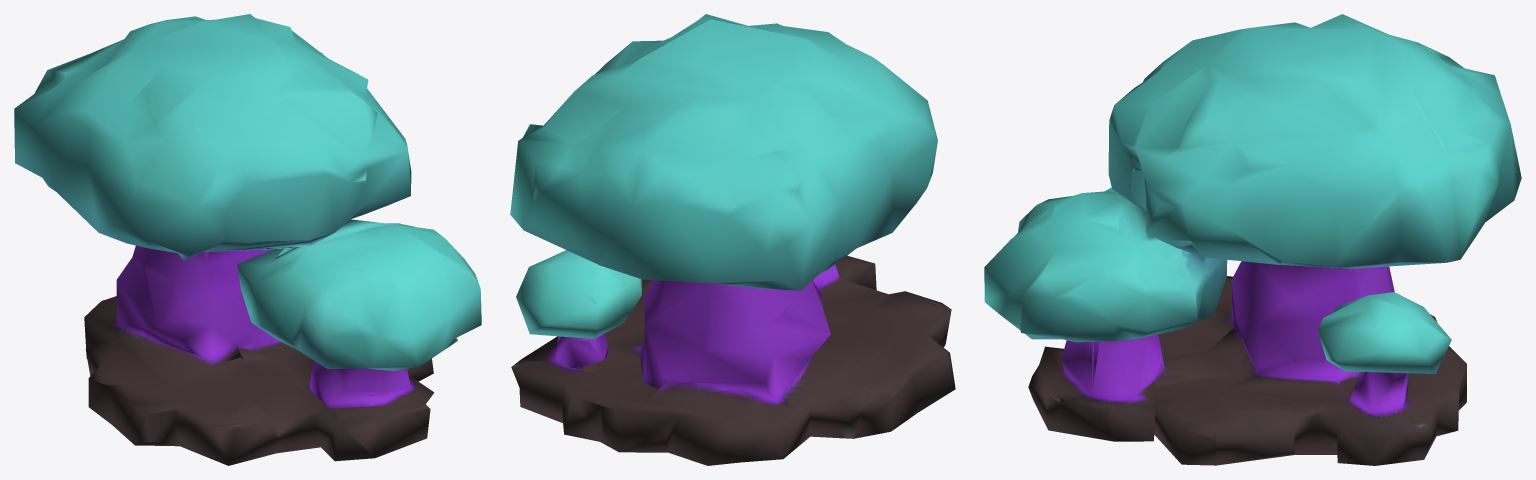
The model's file is textures.glb.
The picture shows the model from 3 angles, left to right: view 1: azimuth 30°, elevation 25°; view 2: azimuth 150°, elevation 25°; view 3: azimuth 270°, elevation 25°; orthographic projection. The views are drawn at different scales.
Visible parts, largest first — view 1: tripo_node_021a12ec-1f0f-48c8-a97e-f9e576dcaf90; view 2: tripo_node_021a12ec-1f0f-48c8-a97e-f9e576dcaf90; view 3: tripo_node_021a12ec-1f0f-48c8-a97e-f9e576dcaf90.
Part boxes in pixels (left/top/right/bottom): tripo_node_021a12ec-1f0f-48c8-a97e-f9e576dcaf90: left=14, top=14, right=481, bottom=465; tripo_node_021a12ec-1f0f-48c8-a97e-f9e576dcaf90: left=510, top=14, right=955, bottom=465; tripo_node_021a12ec-1f0f-48c8-a97e-f9e576dcaf90: left=984, top=14, right=1521, bottom=465.
Bounding box in the file's own units: 0.6822 × 0.7084 × 1.
1 material, 1 textured.
